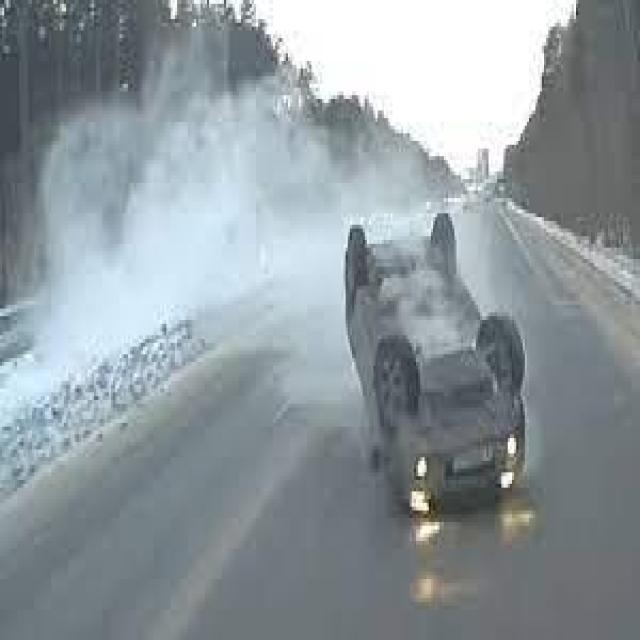severe: (341, 202, 529, 522)
